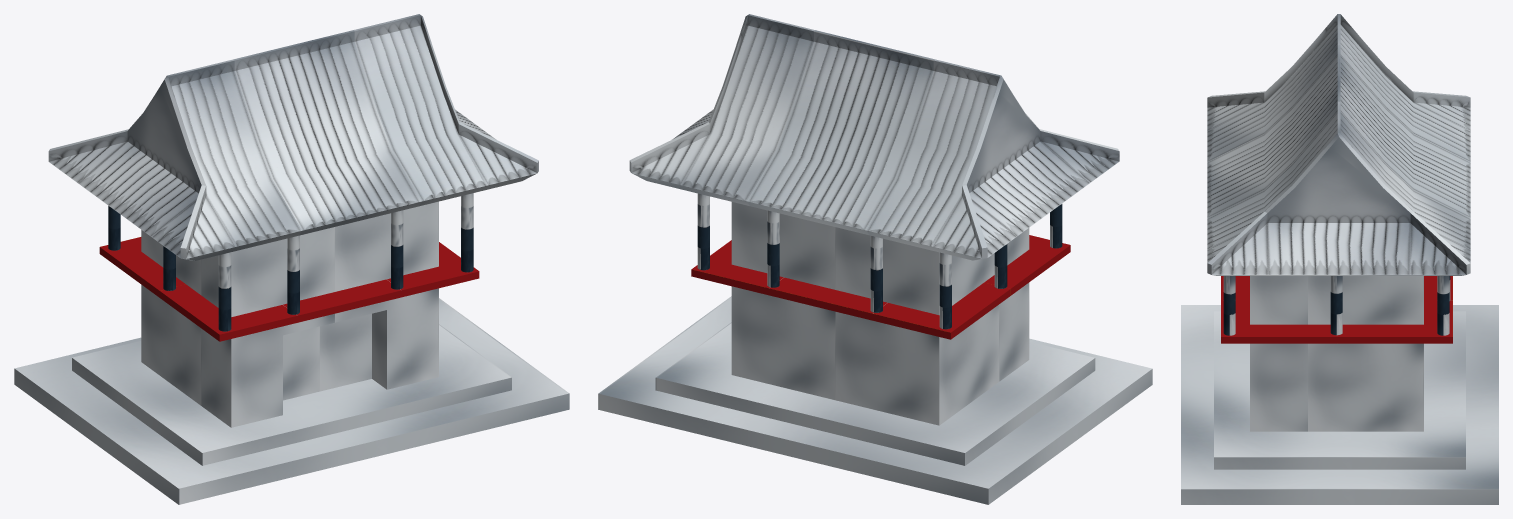
Rendered from Shrine.fbx.
3 renders of one model, left to right at view 1: azimuth 30°, elevation 25°; view 2: azimuth 150°, elevation 25°; view 3: azimuth 270°, elevation 25°, orthographic. The views are drawn at different scales.
Parts seen in each view (by area): view 1: Plane029; view 2: Plane029; view 3: Plane029.
Boxes of the visible parts, x1,y1,x2,y2 form: Plane029: [14, 14, 569, 504]; Plane029: [598, 14, 1152, 504]; Plane029: [1181, 14, 1498, 504].
Bounding box in the file's own units: 79.15 × 68.09 × 57.68.
Materials: 4 (4 with a texture image).
